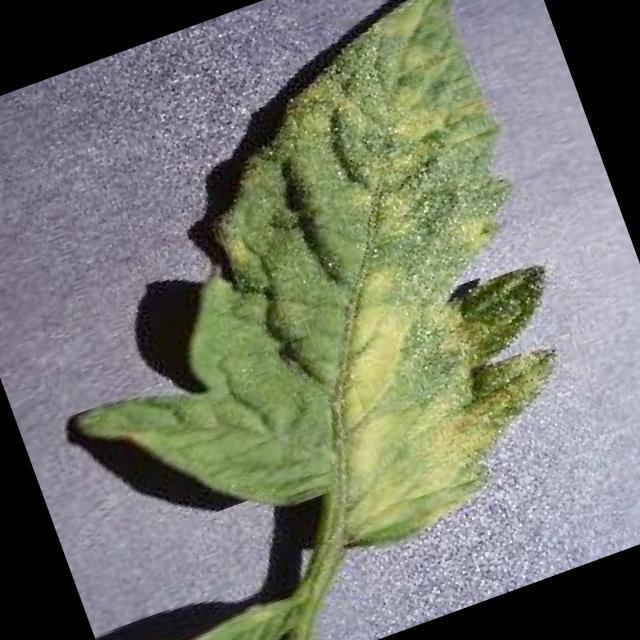Tomato mold leaf: (0, 0, 627, 633)
